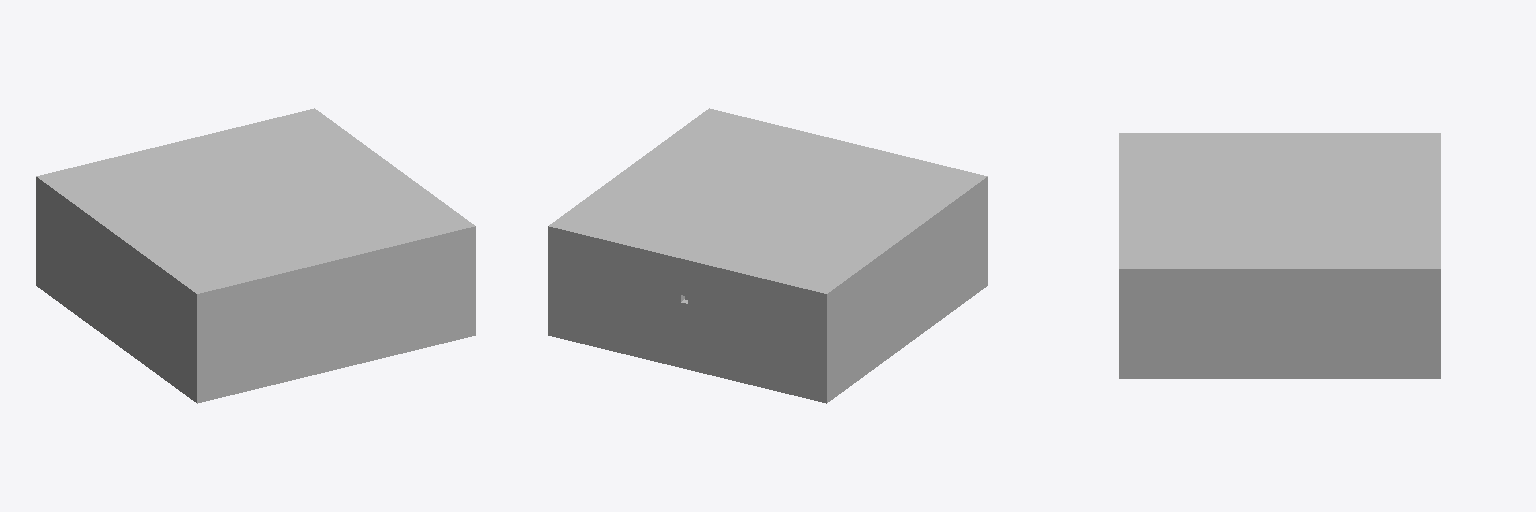
Rendered from snow3.obj.
The picture shows the model from 3 angles: view 1: azimuth 30°, elevation 25°; view 2: azimuth 150°, elevation 25°; view 3: azimuth 270°, elevation 25°; orthographic projection.
Parts seen in each view (by area): view 1: object 1; view 2: object 1; view 3: object 1.
Part boxes in pixels (x1,y1,x2,y2): object 1: (36, 108, 475, 403); object 1: (548, 108, 987, 403); object 1: (1119, 133, 1440, 378).
Size of the model in its own units: 4 by 1.5 by 4.